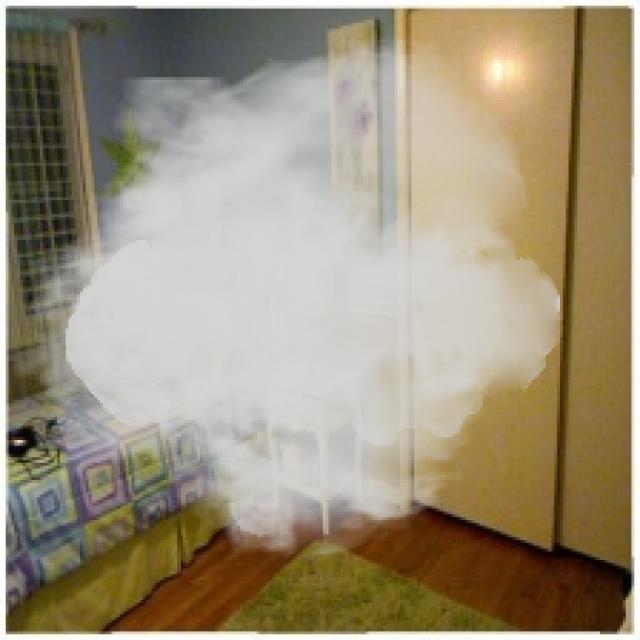Smoke: (8, 31, 563, 563)
